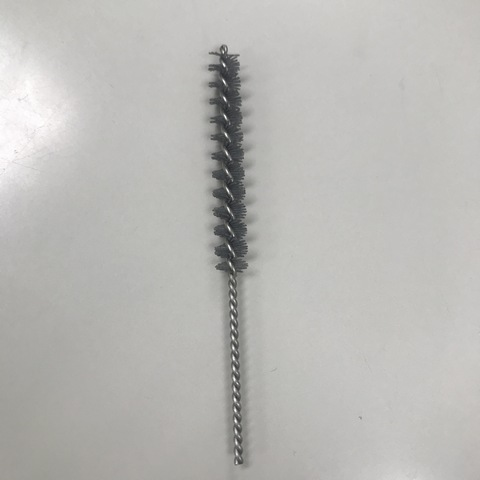Twist Brush-A: (205, 40, 254, 470)
